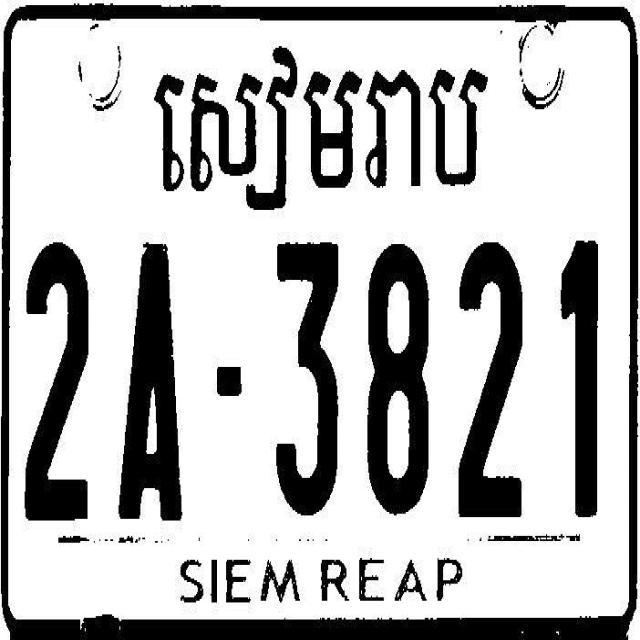Siem_Reap: (148, 31, 487, 216)
